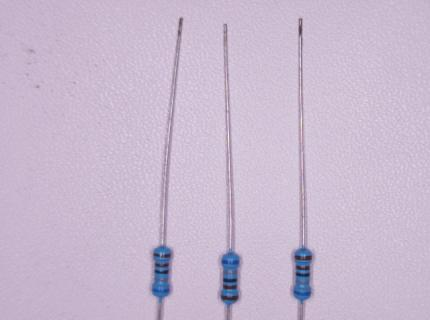Black band: (295, 273, 310, 278), (155, 270, 168, 275), (223, 279, 237, 283)
Blue band: (294, 290, 311, 296), (152, 288, 170, 293), (221, 260, 239, 265)
Brown band: (294, 254, 312, 260), (221, 295, 239, 300), (154, 253, 171, 258), (296, 265, 310, 271), (155, 262, 169, 267), (223, 285, 237, 289)
Grey band: (295, 280, 309, 284), (223, 270, 237, 274), (154, 278, 168, 282)
